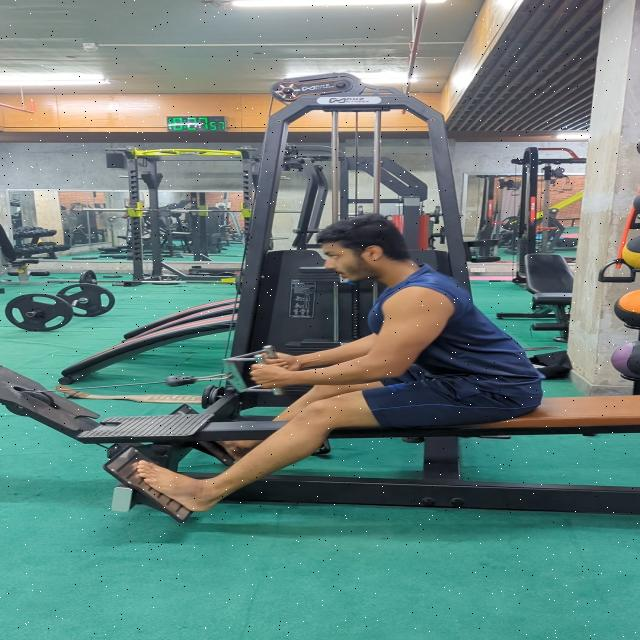Normal_RowingMachineExercise: (128, 214, 546, 513)
